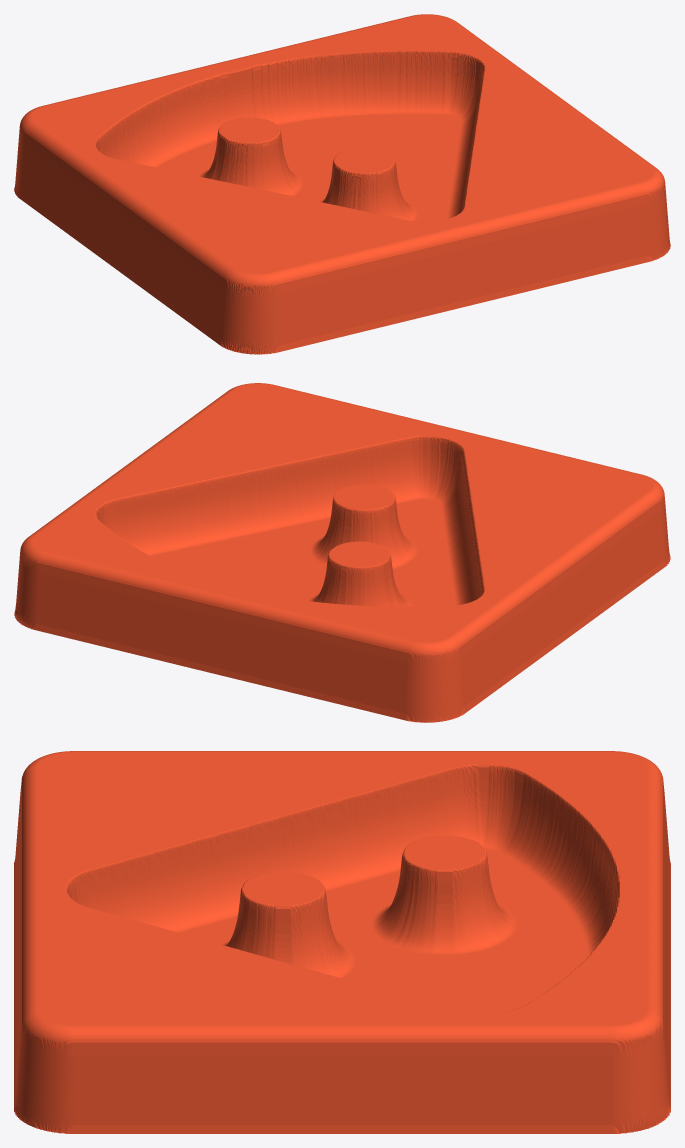
The model's file is mold.glb.
3 views of the same model, one above another, from view 1: azimuth 30°, elevation 25°; view 2: azimuth 150°, elevation 25°; view 3: azimuth 270°, elevation 25° (orthographic). The views are drawn at different scales.
Visible parts, largest first — view 1: geometry_0; view 2: geometry_0; view 3: geometry_0.
Boxes of the visible parts, x1=… form: geometry_0: x1=14, y1=14, x2=670, y2=354; geometry_0: x1=14, y1=383, x2=670, y2=722; geometry_0: x1=14, y1=751, x2=670, y2=1133.
Size of the model in its own units: 0.105 by 0.0165 by 0.0996.
